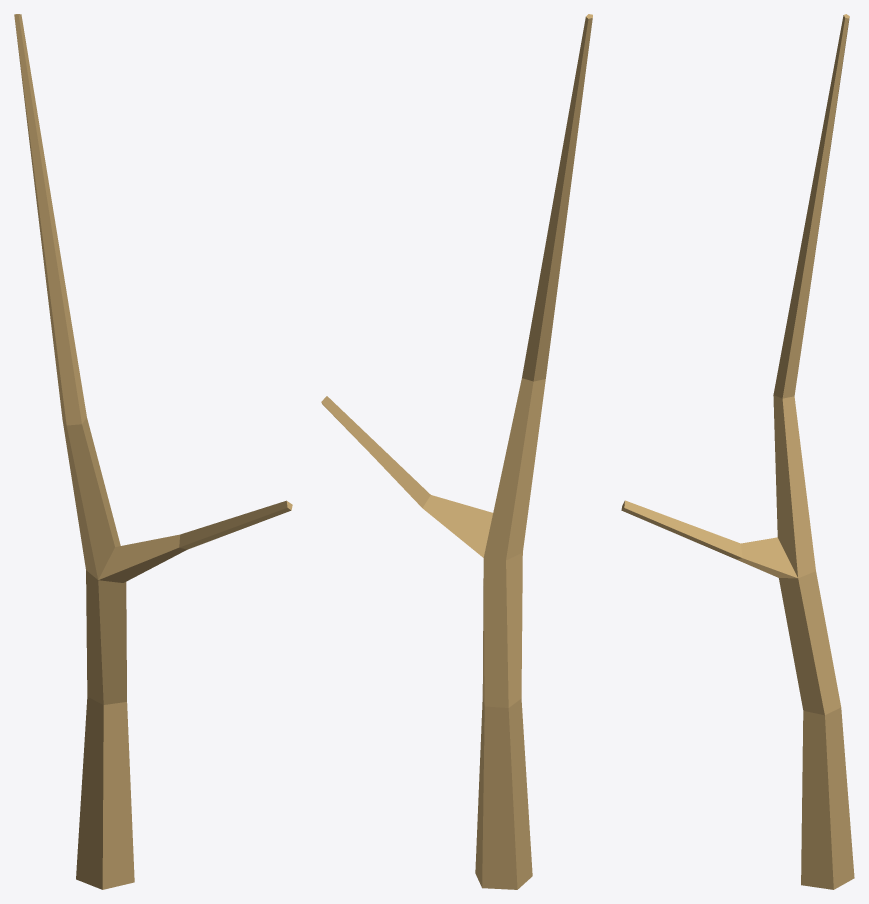
The model's file is Simple_Tree_NoLeaves_s_02_LOD.fbx.
The picture shows the model from 3 angles, left to right: view 1: azimuth 30°, elevation 25°; view 2: azimuth 210°, elevation 25°; view 3: azimuth 270°, elevation 25°; orthographic projection. The views are drawn at different scales.
Parts seen in each view (by area): view 1: Simple_Tree_NoLeaves_s_02_LOD0; view 2: Simple_Tree_NoLeaves_s_02_LOD0; view 3: Simple_Tree_NoLeaves_s_02_LOD0.
Part boxes in pixels (left/top/right/bottom): Simple_Tree_NoLeaves_s_02_LOD0: left=14, top=14, right=292, bottom=889; Simple_Tree_NoLeaves_s_02_LOD0: left=321, top=14, right=592, bottom=889; Simple_Tree_NoLeaves_s_02_LOD0: left=621, top=14, right=854, bottom=889.
Size of what is drawn, in the model's own units: 59.71 by 309 by 79.06.
